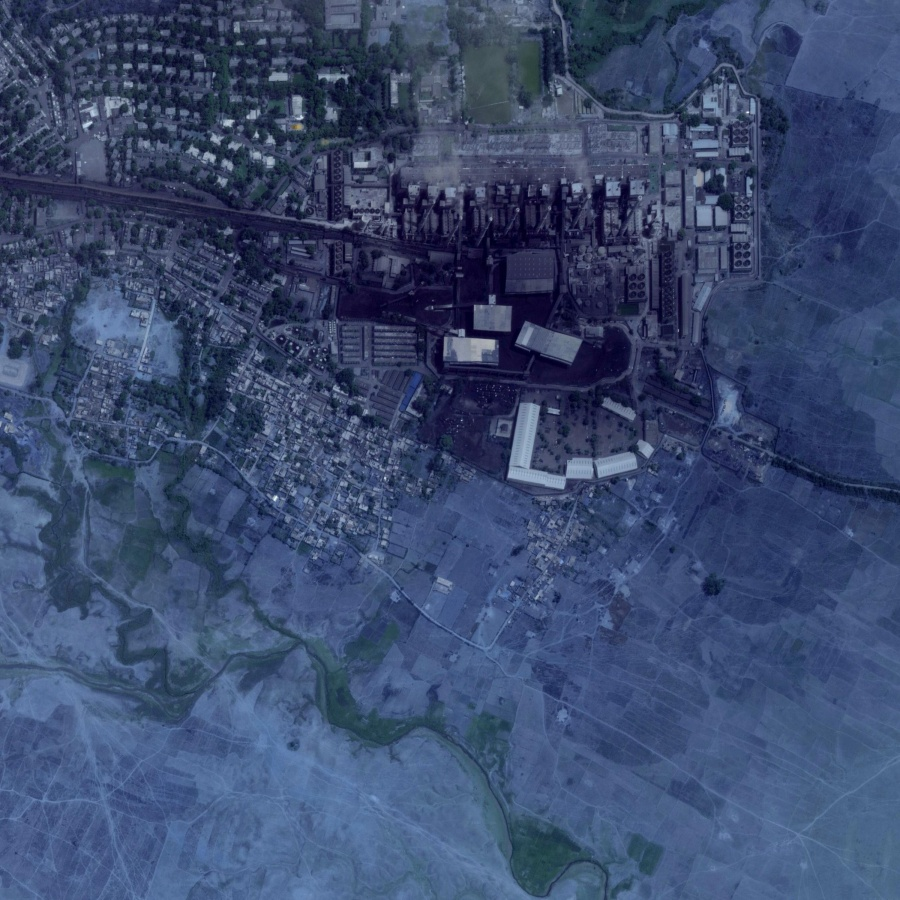PowerPlant: (338, 45, 761, 395)
